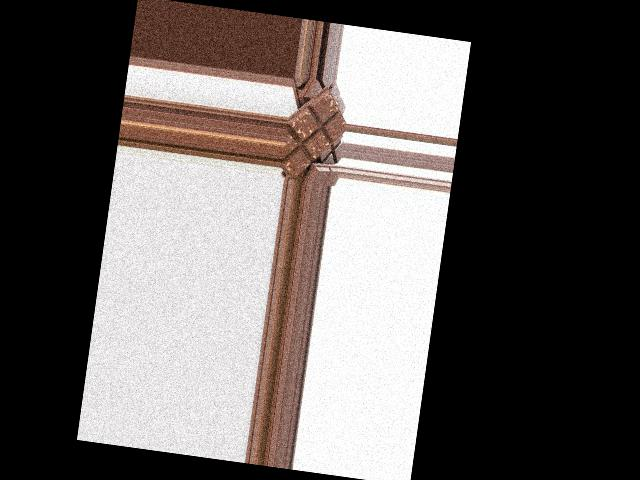chocolate: (279, 88, 349, 184)
